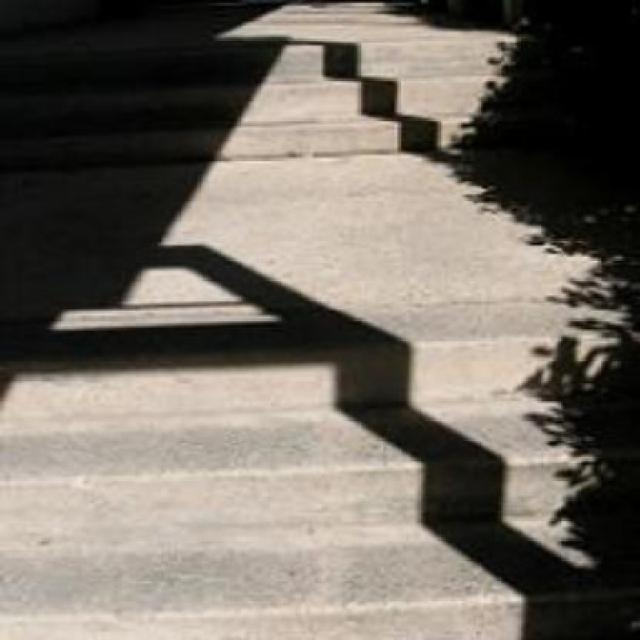stair: (0, 329, 640, 640)
